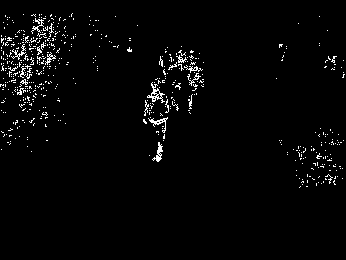person: (142, 76, 166, 162), (184, 48, 206, 115), (158, 44, 177, 79)
